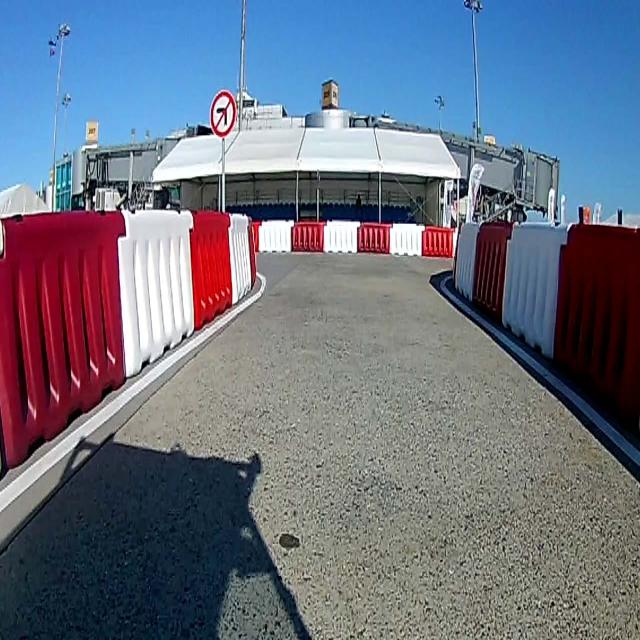soladonulmez: (210, 90, 236, 137)
